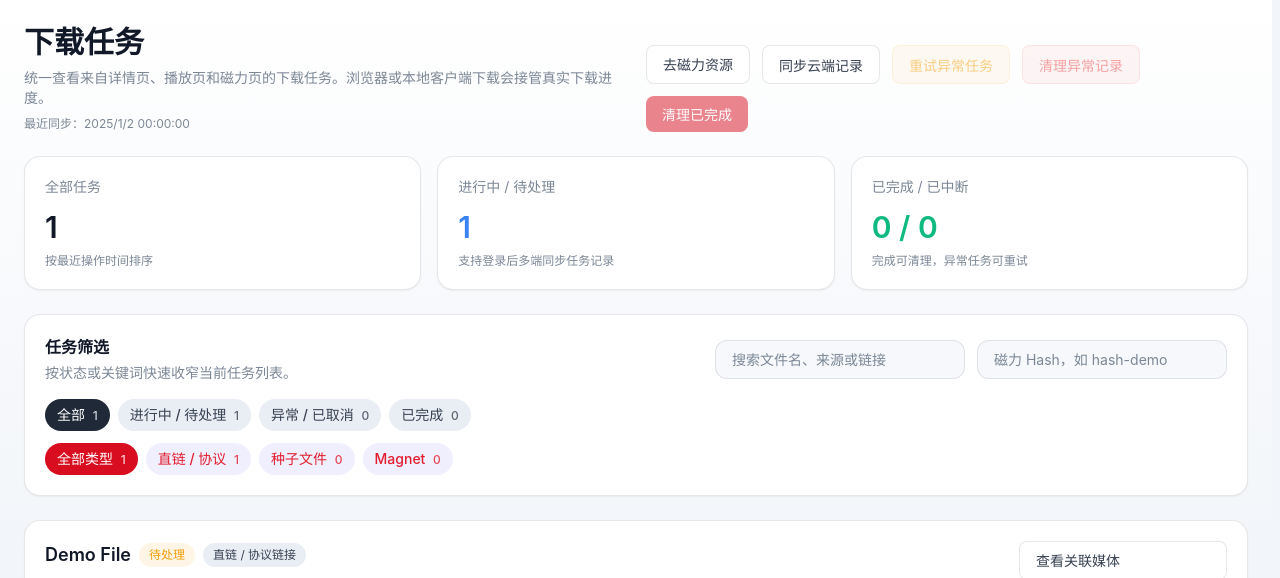
Scenario: DownloadsView › shows a failure message when remote refresh fails
Click the button "同步云端记录" at (821, 64), box [762,45,880,84]
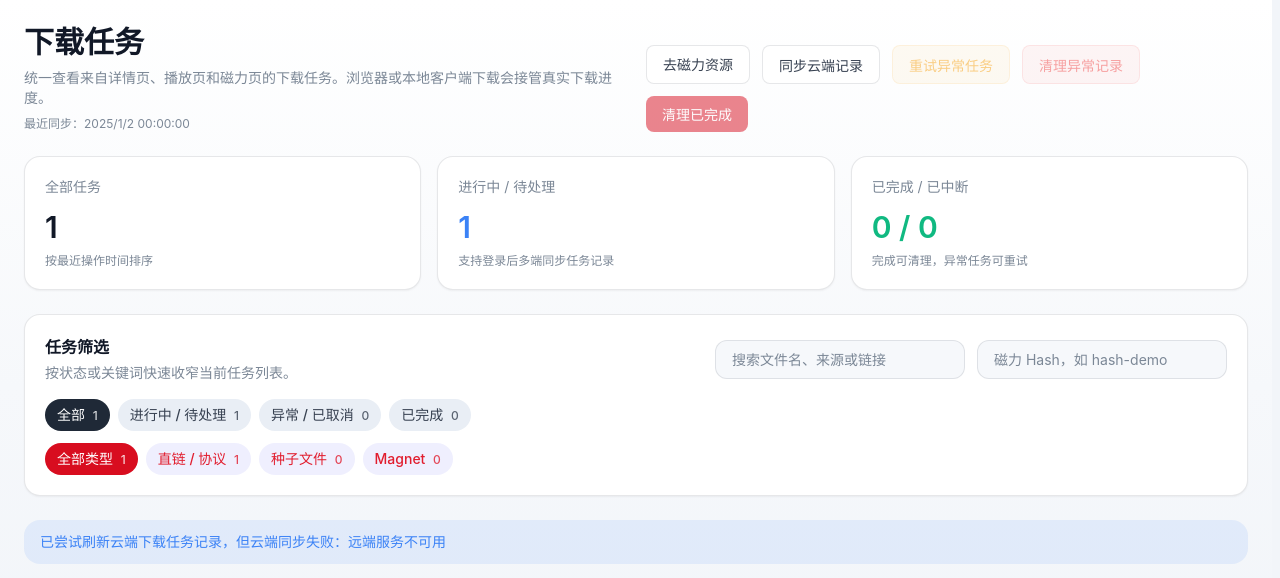
Expected: the text "已尝试刷新云端下载任务记录，但云端同步失败：远端服务不可用" is shown, [24,520,1248,564]
